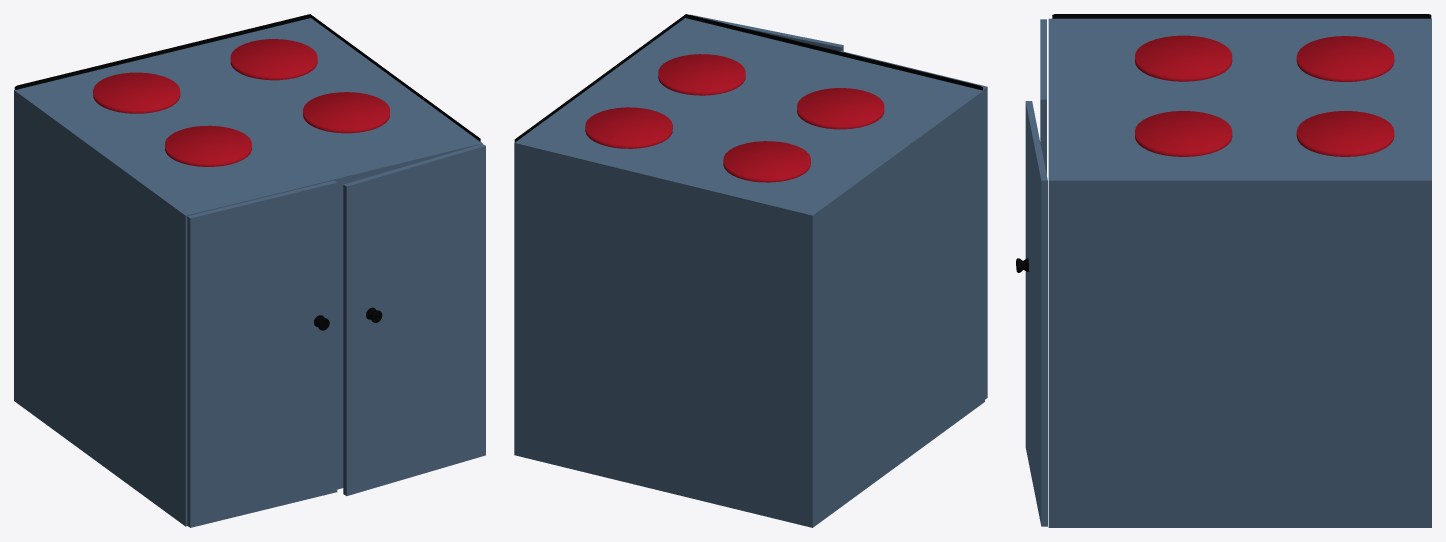
Rendered from plita.fbx.
3 views of the same model, side by side, from view 1: azimuth 30°, elevation 25°; view 2: azimuth 150°, elevation 25°; view 3: azimuth 270°, elevation 25° (orthographic). The views are drawn at different scales.
Visible parts, largest first — view 1: Cube.007, DOOR.014, DOOR.015, Circle, Circle.001, Circle.002, Circle.003, Plane.005; view 2: Cube.007, Circle.001, Circle.002, Circle, Circle.003, Plane.005, DOOR.014, DOOR.015; view 3: Cube.007, DOOR.015, Circle.003, Circle, Circle.001, Circle.002, Plane.005, DOOR.014.
Part boxes in pixels (bbox=[...]): Cube.007: bbox=[14, 18, 482, 526]; DOOR.014: bbox=[187, 180, 337, 527]; DOOR.015: bbox=[343, 144, 485, 495]; Circle: bbox=[93, 72, 180, 113]; Circle.001: bbox=[230, 39, 317, 80]; Circle.002: bbox=[303, 92, 389, 133]; Circle.003: bbox=[165, 125, 251, 166]; Plane.005: bbox=[14, 14, 480, 141]; Cube.007: bbox=[514, 18, 984, 527]; Circle.001: bbox=[585, 107, 672, 148]; Circle.002: bbox=[658, 54, 745, 95]; Circle: bbox=[723, 141, 810, 182]; Circle.003: bbox=[797, 88, 884, 129]; Plane.005: bbox=[514, 14, 982, 142]; DOOR.014: bbox=[839, 51, 987, 399]; DOOR.015: bbox=[690, 14, 843, 51]; Cube.007: bbox=[1048, 18, 1431, 527]; DOOR.015: bbox=[1025, 101, 1047, 526]; Circle.003: bbox=[1135, 35, 1232, 81]; Circle: bbox=[1296, 36, 1394, 81]; Circle.001: bbox=[1296, 111, 1394, 156]; Circle.002: bbox=[1135, 111, 1232, 156]; Plane.005: bbox=[1052, 14, 1431, 18]; DOOR.014: bbox=[1040, 19, 1046, 174].
Bounding box in the file's own units: 2717 × 2778 × 2947.
